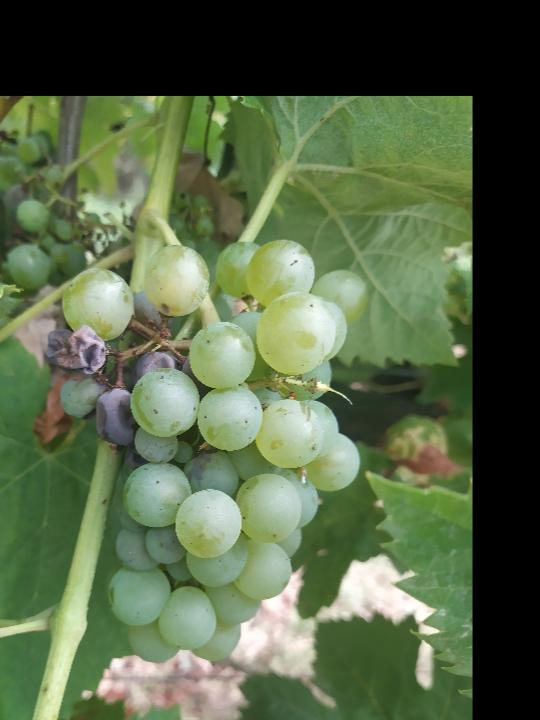grape: (42, 235, 363, 666)
